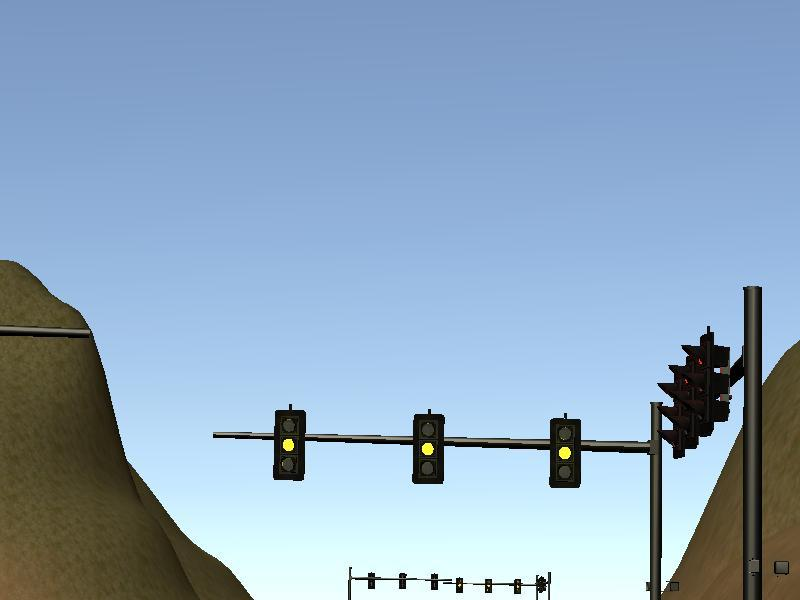Yellow: (412, 414, 443, 483), (550, 418, 581, 487), (274, 410, 304, 478)
